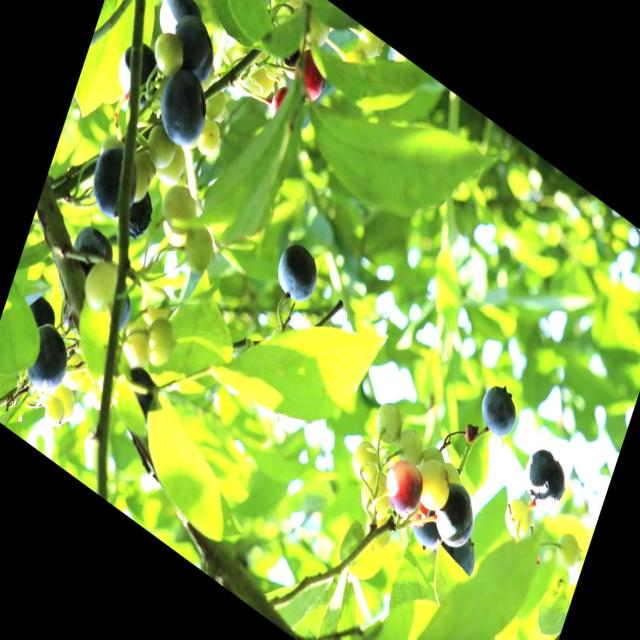blueberry: (149, 58, 216, 156), (84, 130, 148, 223), (18, 316, 75, 402), (427, 471, 482, 558), (163, 6, 222, 85), (268, 232, 324, 312), (517, 438, 572, 518), (472, 370, 525, 451), (64, 215, 118, 292), (152, 0, 208, 54), (405, 504, 446, 556)
blueberry-halfripe: (381, 452, 429, 522), (284, 40, 332, 109), (267, 78, 293, 128)
blueberry-unripe: (178, 218, 218, 282), (158, 180, 199, 242), (356, 466, 394, 527), (414, 452, 451, 514), (345, 432, 384, 490), (141, 310, 178, 370), (241, 48, 278, 108), (42, 378, 78, 431), (59, 340, 93, 396), (550, 524, 585, 578), (157, 138, 189, 193), (372, 394, 406, 444), (120, 325, 153, 374), (144, 128, 177, 176), (192, 117, 225, 165), (393, 423, 424, 470), (198, 85, 229, 131), (504, 494, 534, 541)
